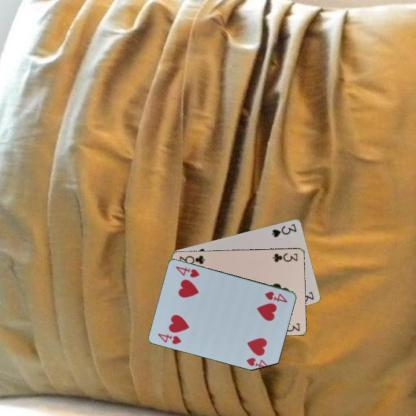3c: (270, 250, 299, 264)
3s: (269, 221, 298, 239)
4h: (262, 288, 289, 304), (156, 330, 182, 346)
